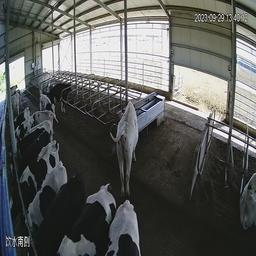cow: (61, 173, 117, 252), (29, 167, 79, 251), (112, 94, 145, 200), (9, 161, 61, 215), (103, 200, 147, 255), (7, 137, 63, 178), (236, 157, 255, 233), (10, 110, 50, 141), (37, 91, 60, 128), (35, 68, 52, 94), (6, 85, 21, 107)
